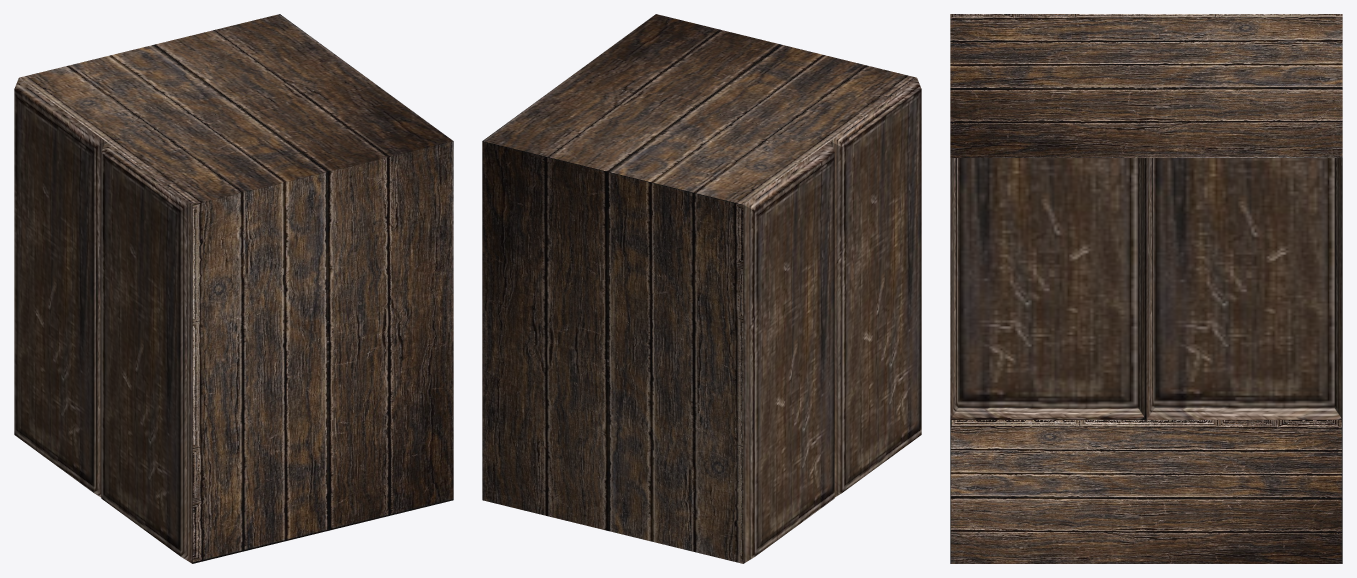
File: 수납장.fbx
3 renders of one model, left to right at view 1: azimuth 30°, elevation 25°; view 2: azimuth 150°, elevation 25°; view 3: azimuth 270°, elevation 25°, orthographic. The views are drawn at different scales.
Parts seen in each view (by area): view 1: Box017; view 2: Box017; view 3: Box017.
Boxes of the visible parts, bbox=[...] form: Box017: bbox=[14, 14, 453, 563]; Box017: bbox=[482, 14, 921, 563]; Box017: bbox=[950, 14, 1342, 563].
Size of the model in its own units: 42.37 by 54.01 by 47.33.
